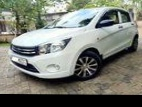car: (8, 6, 140, 82)
